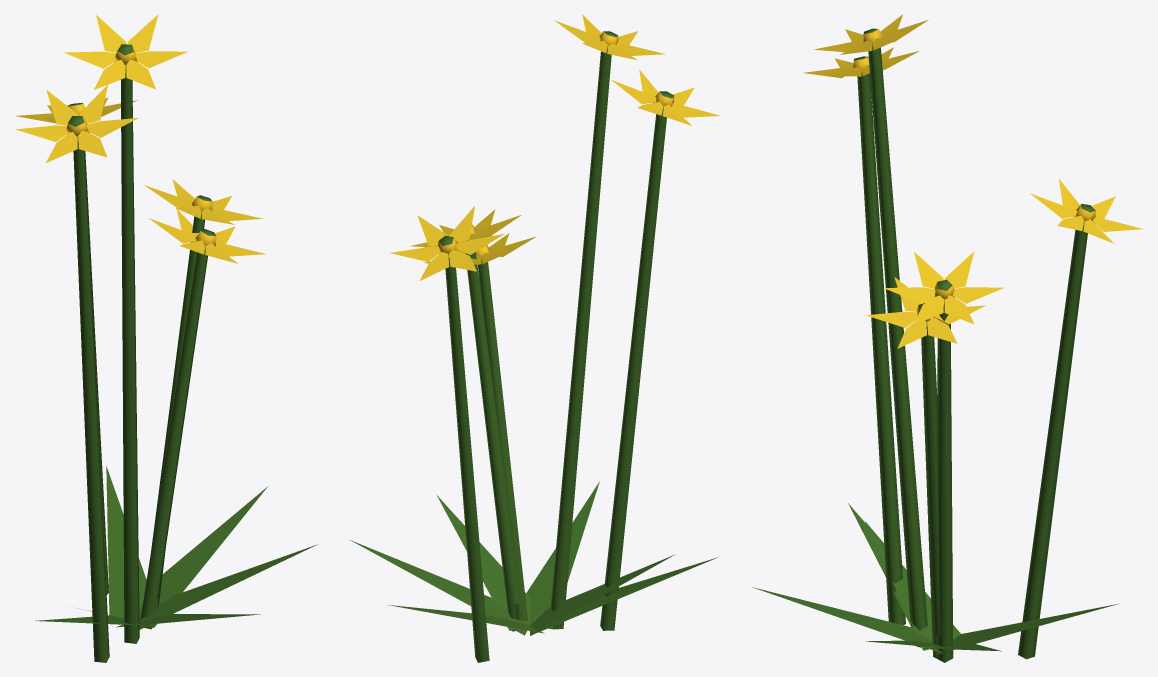
File: n-flowerYellow.glb
The picture shows the model from 3 angles, left to right: view 1: azimuth 30°, elevation 25°; view 2: azimuth 150°, elevation 25°; view 3: azimuth 270°, elevation 25°; orthographic projection. The views are drawn at different scales.
Parts seen in each view (by area): view 1: flower; view 2: flower; view 3: flower.
Part boxes in pixels (<box>): flower: <box>15,14,317,662</box>; flower: <box>350,14,720,662</box>; flower: <box>752,14,1143,662</box>.
Size of the model in its own units: 0.4934 by 0.9468 by 0.5521.
